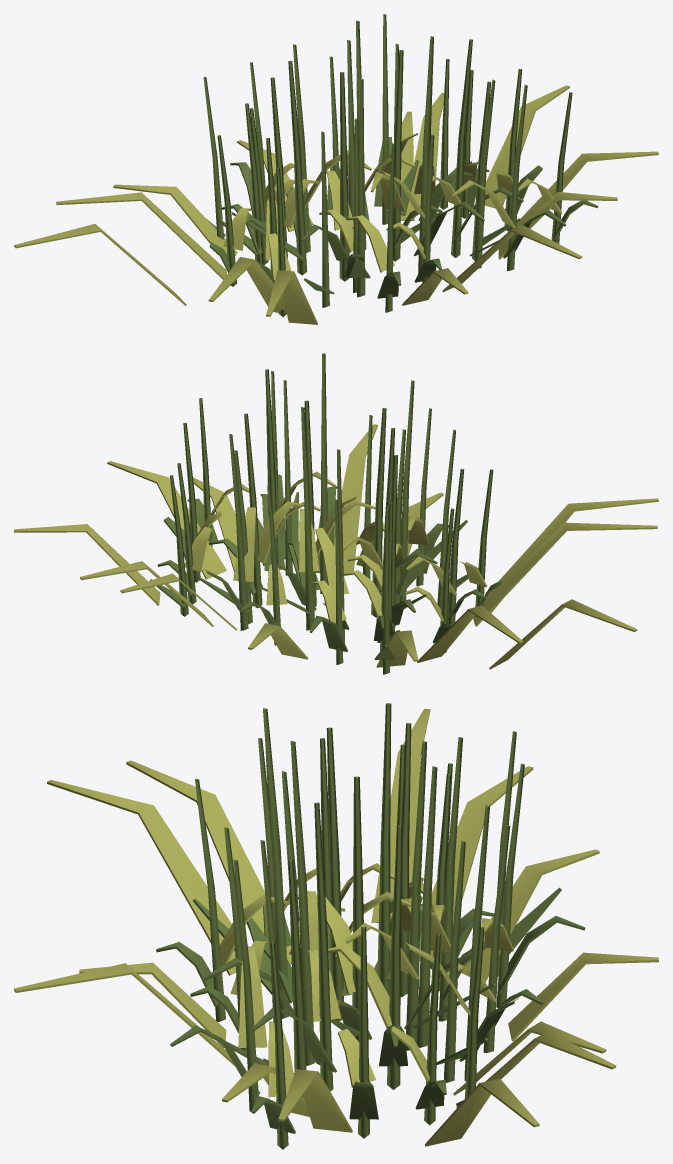
File: foliage_sedge_tussock_a.glb
3 renders of one model, top to bottom at view 1: azimuth 30°, elevation 25°; view 2: azimuth 150°, elevation 25°; view 3: azimuth 270°, elevation 25°, orthographic. The views are drawn at different scales.
Parts seen in each view (by area): view 1: foliage_sedge_tussock_a_LOD0_reeds, foliage_sedge_tussock_a_LOD1_reeds; view 2: foliage_sedge_tussock_a_LOD0_reeds, foliage_sedge_tussock_a_LOD1_reeds; view 3: foliage_sedge_tussock_a_LOD0_reeds, foliage_sedge_tussock_a_LOD1_reeds.
Boxes of the visible parts, x1=… form: foliage_sedge_tussock_a_LOD0_reeds: x1=14, y1=14, x2=658, y2=324; foliage_sedge_tussock_a_LOD1_reeds: x1=203, y1=40, x2=520, y2=307; foliage_sedge_tussock_a_LOD0_reeds: x1=14, y1=353, x2=658, y2=669; foliage_sedge_tussock_a_LOD1_reeds: x1=150, y1=380, x2=478, y2=674; foliage_sedge_tussock_a_LOD0_reeds: x1=14, y1=708, x2=658, y2=1149; foliage_sedge_tussock_a_LOD1_reeds: x1=193, y1=703, x2=561, y2=1105.
Bounding box in the file's own units: 1.17 × 0.4498 × 0.7994.
